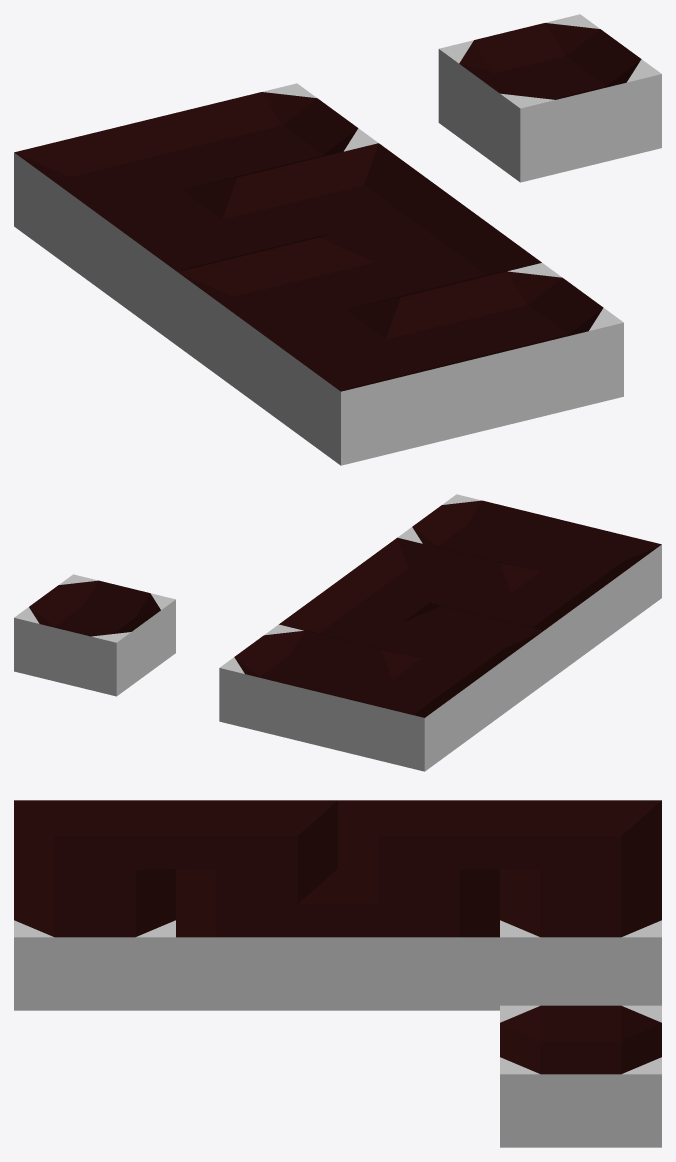
The model's file is 27s_path.obj.
The picture shows the model from 3 angles, top to bottom: view 1: azimuth 30°, elevation 25°; view 2: azimuth 150°, elevation 25°; view 3: azimuth 270°, elevation 25°; orthographic projection. The views are drawn at different scales.
Visible parts, largest first — view 1: hole.3.3_Cube.054, corner.0.0_corner.261, ending.1.0_ending.105, corner.0.1_corner.262, corner.0.3_corner.264, corner.1.2_corner.266, corner.0.2_corner.263, ending.1.3_ending.106, corner.1.1_corner.265; view 2: hole.3.3_Cube.054, corner.0.3_corner.264, ending.1.3_ending.106, corner.0.2_corner.263, corner.0.0_corner.261, corner.1.1_corner.265, corner.0.1_corner.262, ending.1.0_ending.105, corner.1.2_corner.266; view 3: hole.3.3_Cube.054, ending.1.0_ending.105, corner.1.1_corner.265, corner.1.2_corner.266, ending.1.3_ending.106, corner.0.0_corner.261, corner.0.1_corner.262, corner.0.2_corner.263, corner.0.3_corner.264.
Boxes of the visible parts, <box> form: hole.3.3_Cube.054: <box>438,14,661,182</box>; corner.0.0_corner.261: <box>259,297,482,465</box>; ending.1.0_ending.105: <box>401,263,623,430</box>; corner.0.1_corner.262: <box>177,237,400,405</box>; corner.0.3_corner.264: <box>14,118,236,285</box>; corner.1.2_corner.266: <box>237,143,459,247</box>; corner.0.2_corner.263: <box>95,178,317,345</box>; ending.1.3_ending.106: <box>156,83,378,180</box>; corner.1.1_corner.265: <box>319,203,541,300</box>; hole.3.3_Cube.054: <box>14,574,175,696</box>; corner.0.3_corner.264: <box>322,650,483,771</box>; ending.1.3_ending.106: <box>219,624,381,746</box>; corner.0.2_corner.263: <box>382,606,543,727</box>; corner.0.0_corner.261: <box>500,519,661,640</box>; corner.1.1_corner.265: <box>338,537,499,613</box>; corner.0.1_corner.262: <box>444,563,602,684</box>; ending.1.0_ending.105: <box>398,494,558,565</box>; corner.1.2_corner.266: <box>279,581,440,651</box>; hole.3.3_Cube.054: <box>500,1005,661,1147</box>; ending.1.0_ending.105: <box>14,869,175,1010</box>; corner.1.1_corner.265: <box>176,869,337,1010</box>; corner.1.2_corner.266: <box>338,869,499,1010</box>; ending.1.3_ending.106: <box>500,869,661,1005</box>; corner.0.0_corner.261: <box>14,800,175,887</box>; corner.0.1_corner.262: <box>176,800,337,887</box>; corner.0.2_corner.263: <box>338,800,499,887</box>; corner.0.3_corner.264: <box>500,800,661,887</box>.
Bounding box in the file's own units: 8 × 1 × 8.
